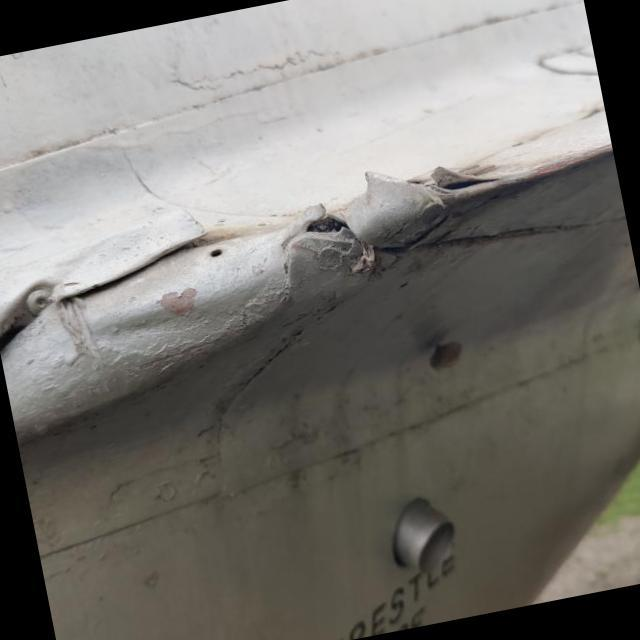Rupture: (362, 132, 518, 222), (288, 182, 367, 258)
